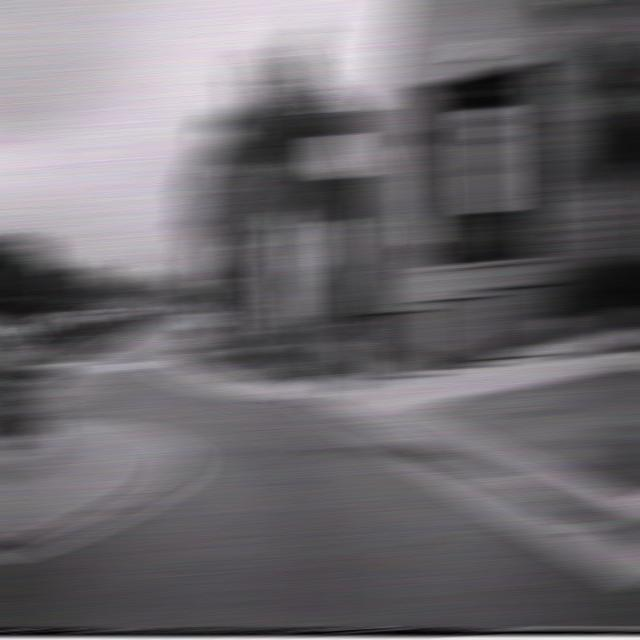pedestrianCrossing: (199, 235, 240, 278)
